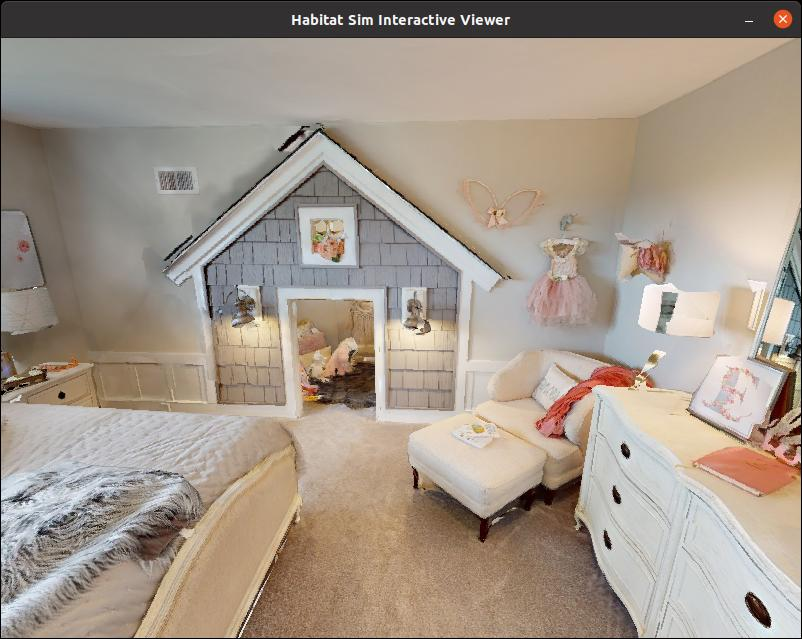door-frame: (275, 287, 398, 419)
sofa: (405, 329, 673, 514)
